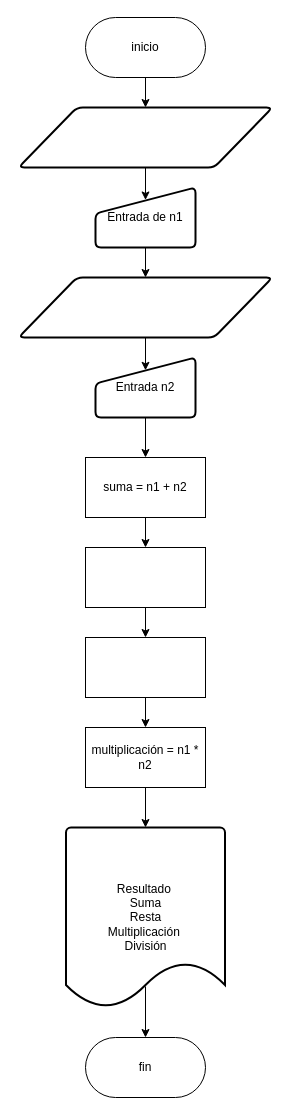
This 290x1115 diagram has some shape labels left out. Here are the shapes that lost their labels. From the top down, the centre of each, then its label:
pixel 145 137: Ingrese el primer numero
pixel 145 307: Ingrese el segundo numero
pixel 145 577: resta = n1 - n2
pixel 145 667: división = n1 / n2
